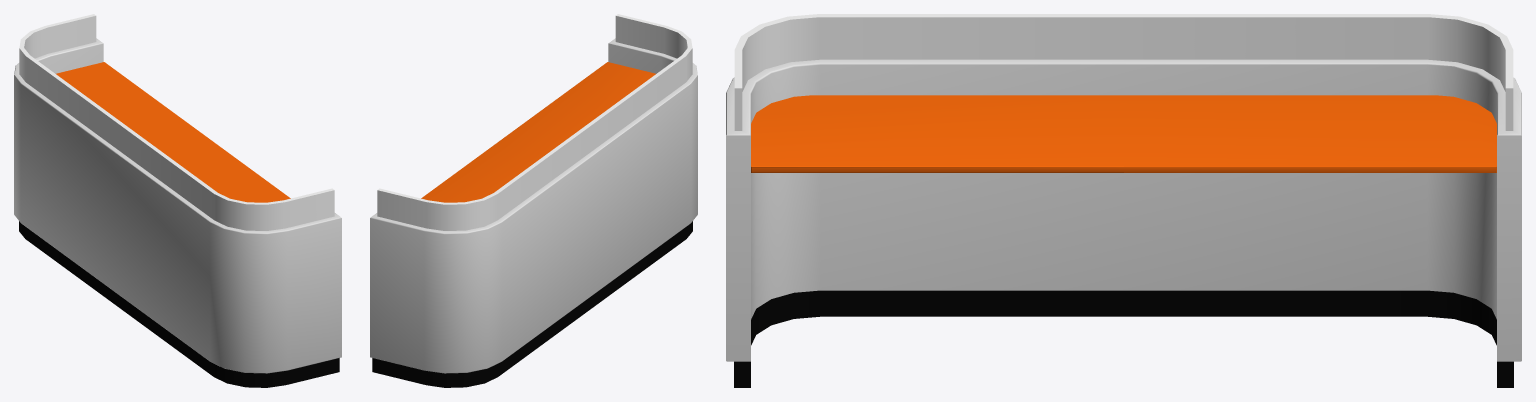
File: desk_1_long.glb
3 views of the same model, side by side, from view 1: azimuth 30°, elevation 25°; view 2: azimuth 150°, elevation 25°; view 3: azimuth 270°, elevation 25° (orthographic). The views are drawn at different scales.
Parts seen in each view (by area): view 1: Office Paritions Desk; view 2: Office Paritions Desk; view 3: Office Paritions Desk.
Part boxes in pixels (<box>): Office Paritions Desk: <box>14,14,341,387</box>; Office Paritions Desk: <box>370,14,697,387</box>; Office Paritions Desk: <box>726,14,1521,387</box>.
Size of the model in its own units: 0.6396 by 1.07 by 2.6.
